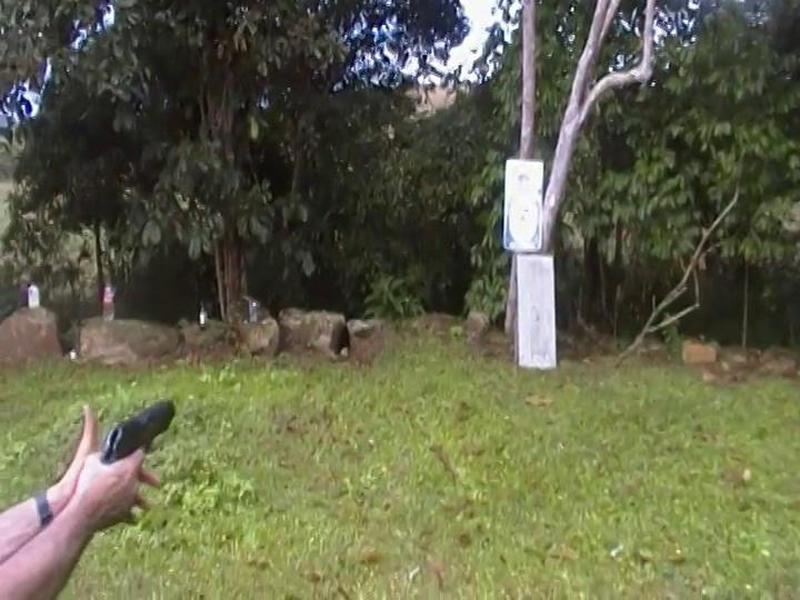Pistola: (87, 386, 187, 473)
